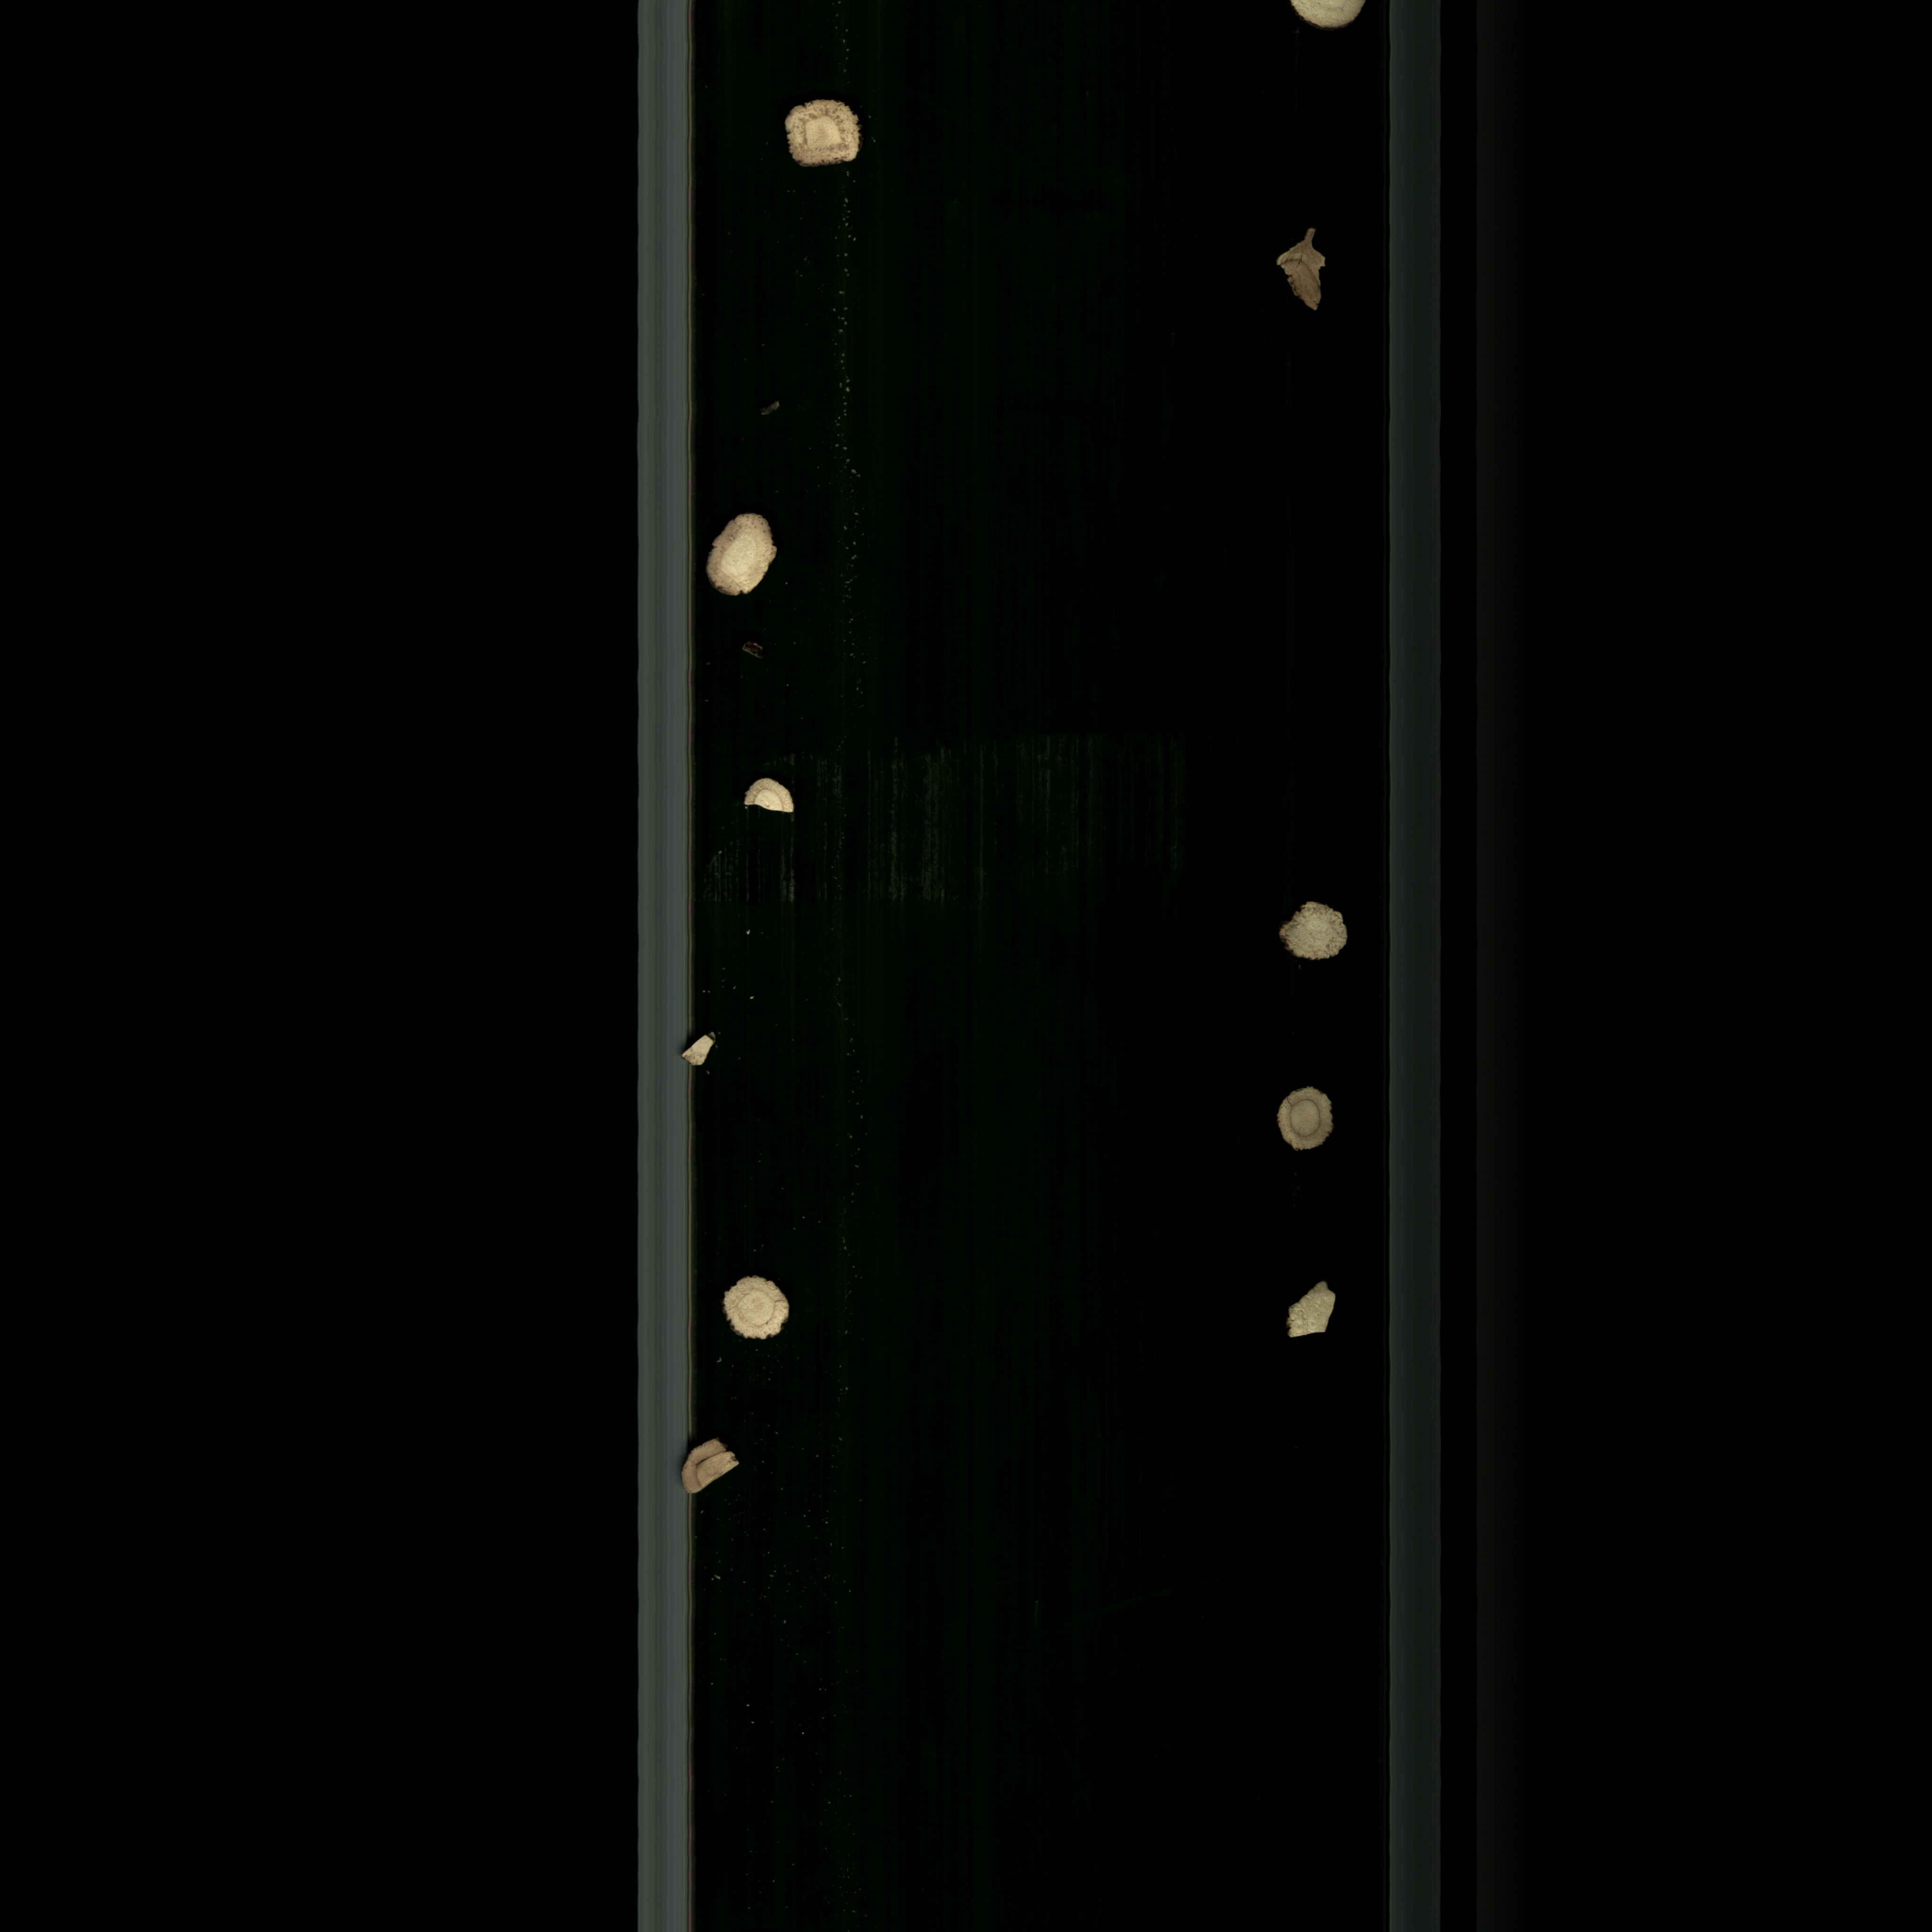debris: (699, 499, 780, 607), (667, 1433, 745, 1506), (736, 763, 805, 828)
dreg: (1269, 1270, 1352, 1346), (671, 1028, 732, 1074)
moldy: (1261, 218, 1343, 333), (770, 96, 874, 179), (1265, 890, 1362, 970), (1269, 1077, 1345, 1164)
